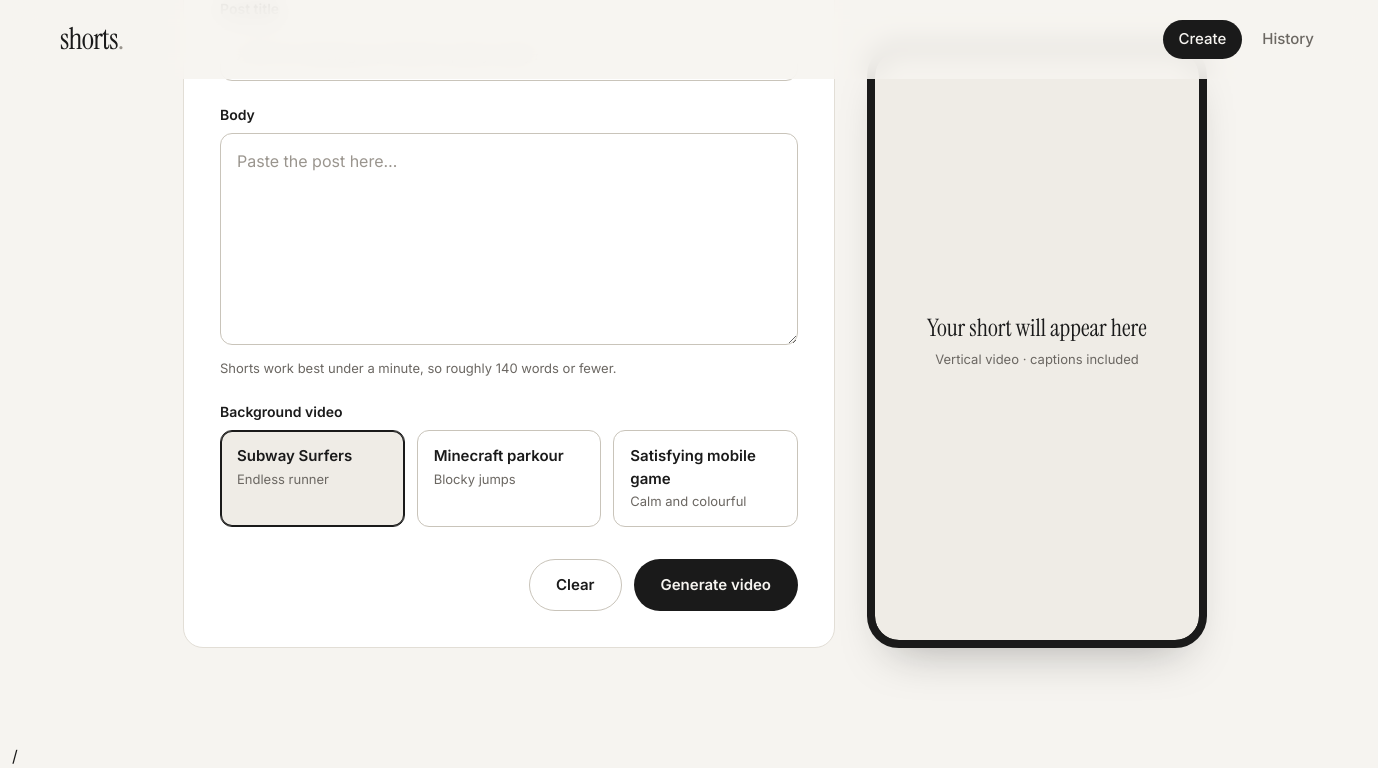
Test: editing › switches background video
(page scrolled)
Click the radio button labelled "Minecraft parkour Blocky jumps": (509, 478) [417,430,601,527]
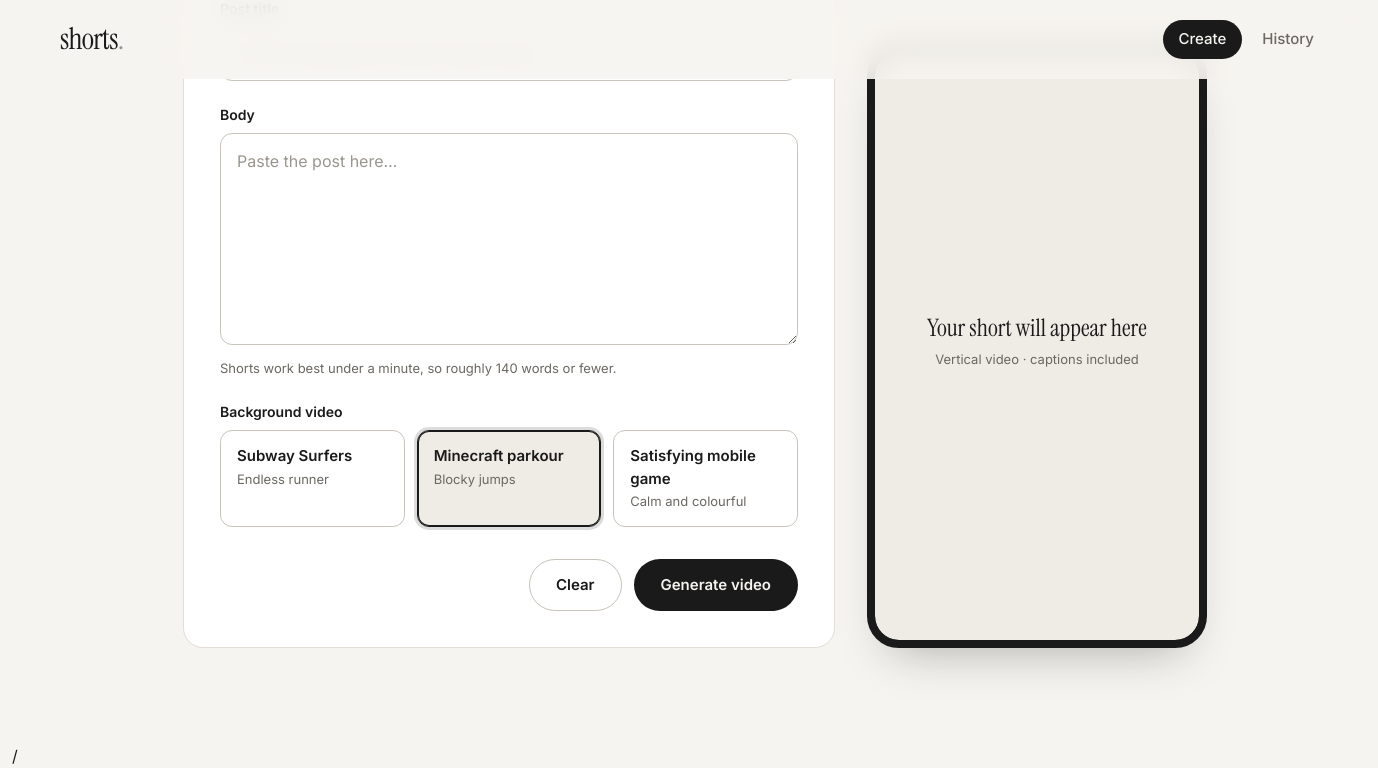
Now the radio button labelled "Minecraft parkour Blocky jumps" is checked, box [417,430,601,527]
Now the radio button labelled "Subway Surfers Endless runner" is not checked, box [220,430,405,527]
